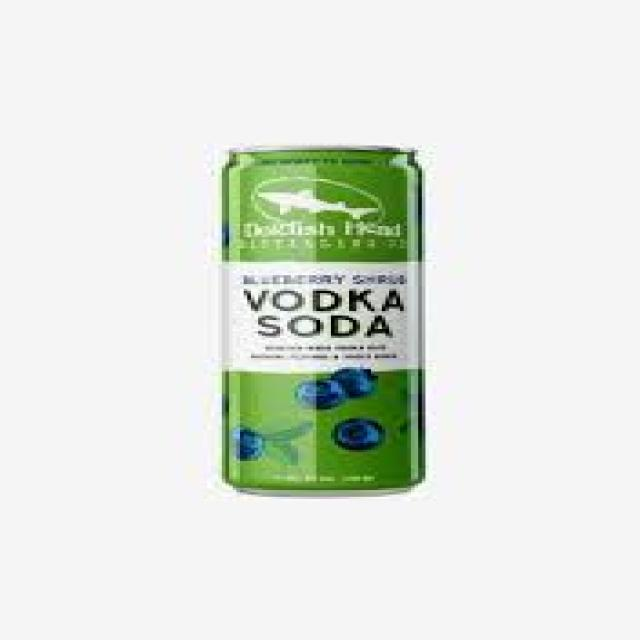Cans: (196, 132, 440, 501)
